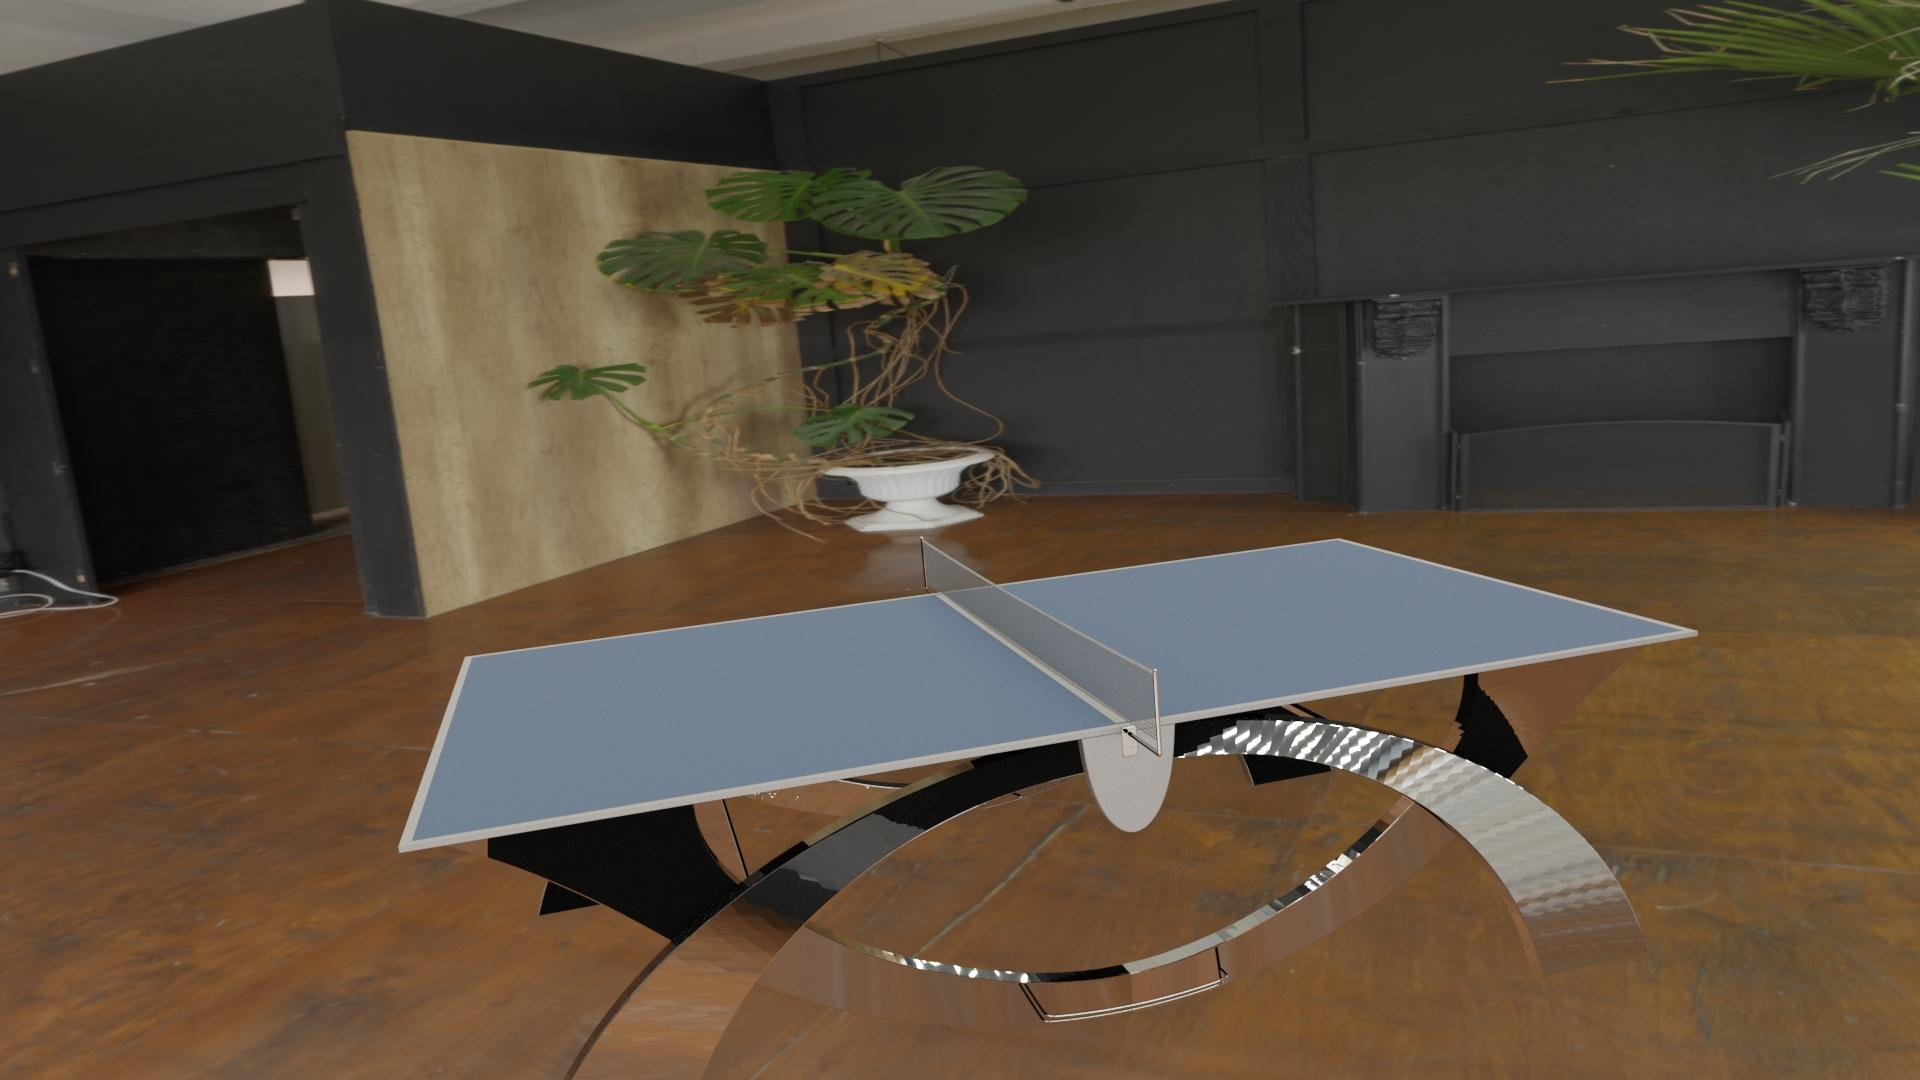table: (411, 541, 1684, 841)
